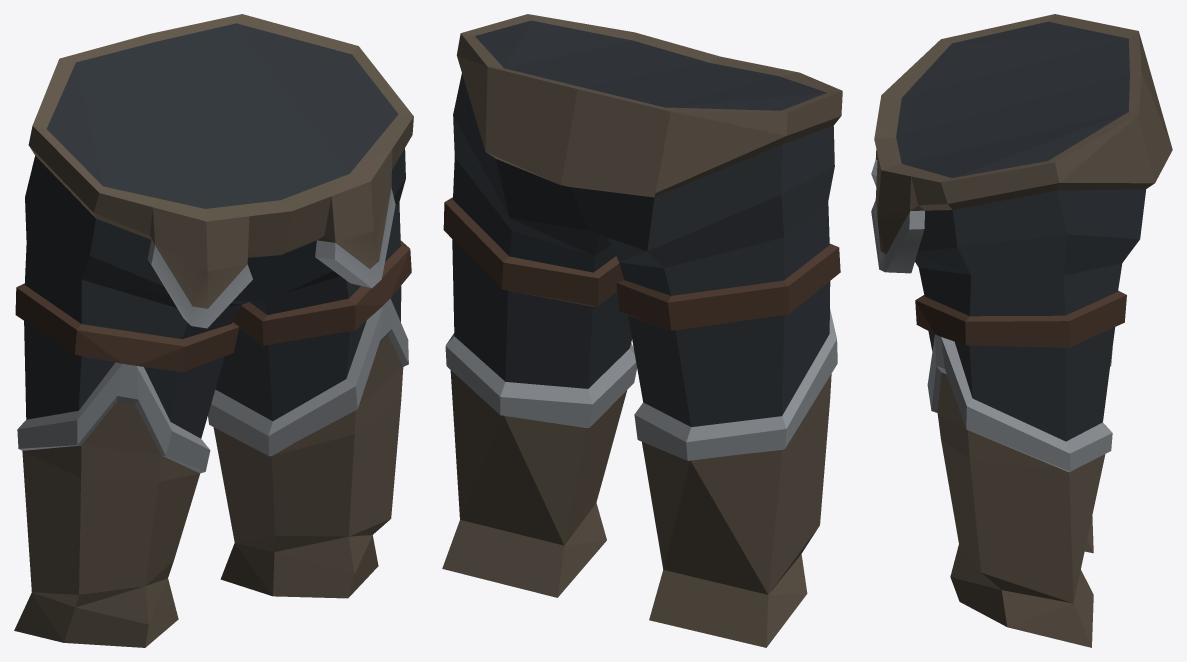
The model's file is Chr_Hips_Male_13_Static.fbx.
3 renders of one model, left to right at view 1: azimuth 30°, elevation 25°; view 2: azimuth 150°, elevation 25°; view 3: azimuth 270°, elevation 25°, orthographic. The views are drawn at different scales.
Visible parts, largest first — view 1: Chr_Hips_Male_13_Static; view 2: Chr_Hips_Male_13_Static; view 3: Chr_Hips_Male_13_Static.
Part boxes in pixels (x1,y1,x2,y2): Chr_Hips_Male_13_Static: (14,14,413,647); Chr_Hips_Male_13_Static: (442,14,842,647); Chr_Hips_Male_13_Static: (871,14,1172,647).
Size of the model in its own units: 0.3714 by 0.5545 by 0.3016.
